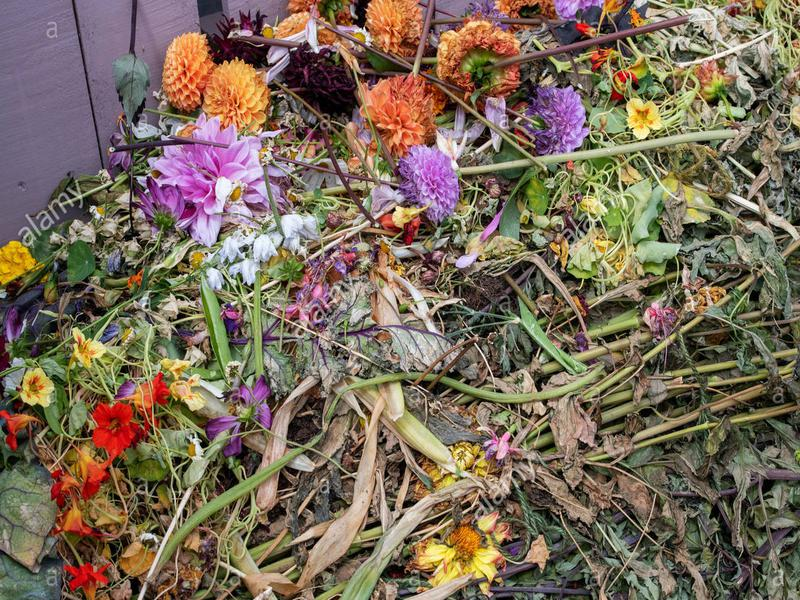flowers: (1, 1, 800, 600)
